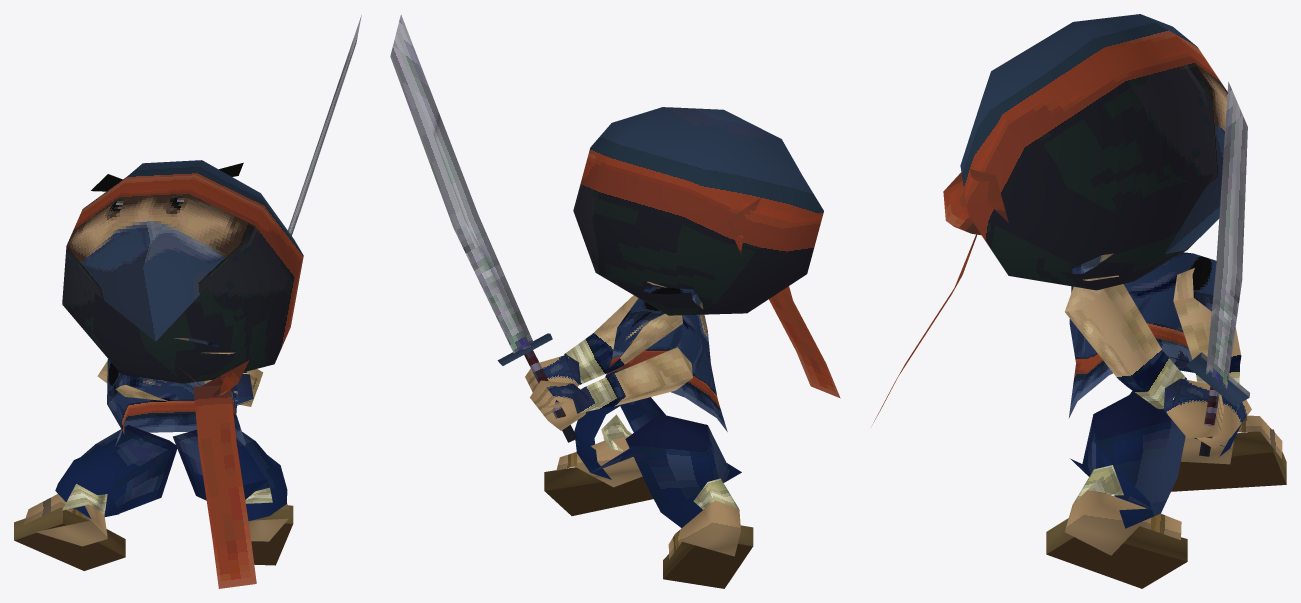
File: ps2_save-icons_ininja.glb
3 renders of one model, left to right at view 1: azimuth 30°, elevation 25°; view 2: azimuth 150°, elevation 25°; view 3: azimuth 270°, elevation 25°, orthographic. The views are drawn at different scales.
Visible parts, largest first — view 1: list.ico; view 2: list.ico; view 3: list.ico.
Boxes of the visible parts, left/top/right/bottom form: list.ico: left=14, top=15, right=361, bottom=588; list.ico: left=390, top=14, right=840, bottom=588; list.ico: left=872, top=14, right=1286, bottom=588.
Bounding box in the file's own units: 3.75 × 4.89 × 3.24.
Materials: 1 (1 with a texture image).
